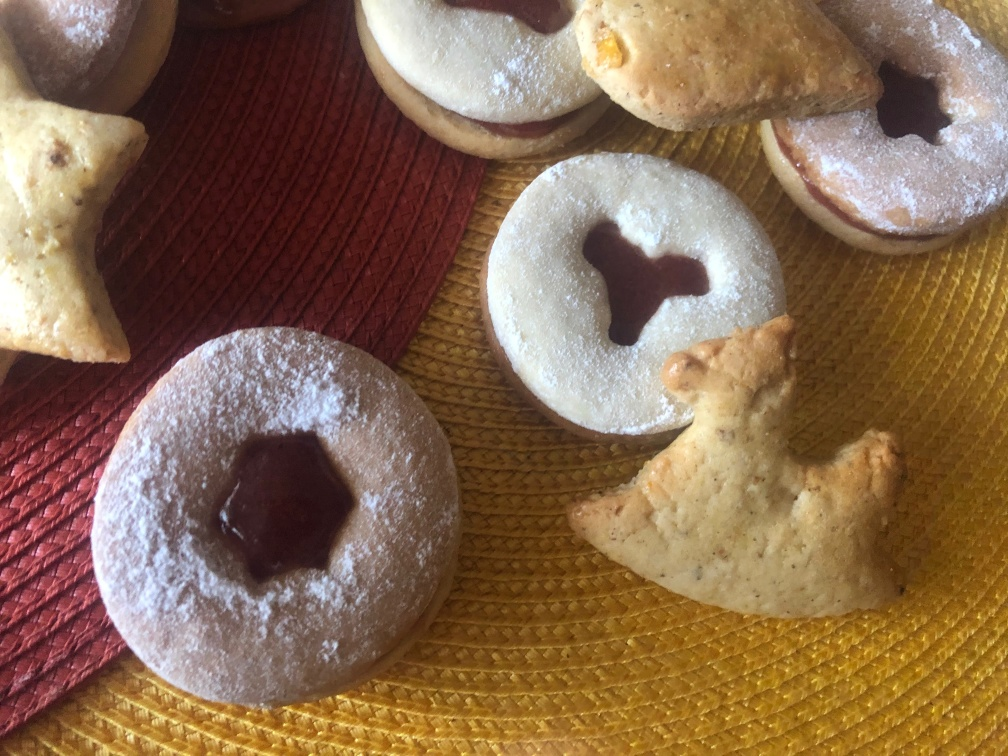christmas shortbread with jam: (90, 325, 462, 712), (483, 151, 785, 434), (770, 1, 1004, 259), (356, 1, 613, 155)
heart: (578, 1, 889, 132)
lamb: (566, 307, 902, 621)
star: (1, 37, 145, 380)
